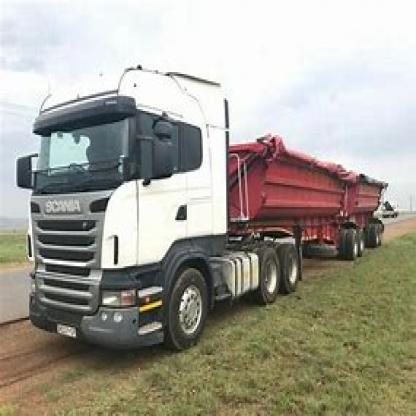dump_truck: (12, 59, 398, 351)
